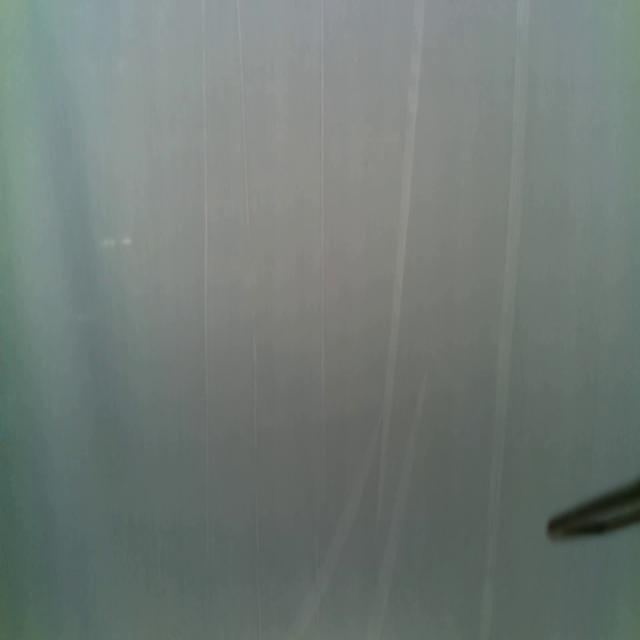crease: (477, 0, 532, 639), (376, 0, 426, 509), (282, 409, 383, 640), (235, 0, 267, 639), (366, 373, 430, 640), (200, 0, 212, 605), (318, 0, 328, 636)
